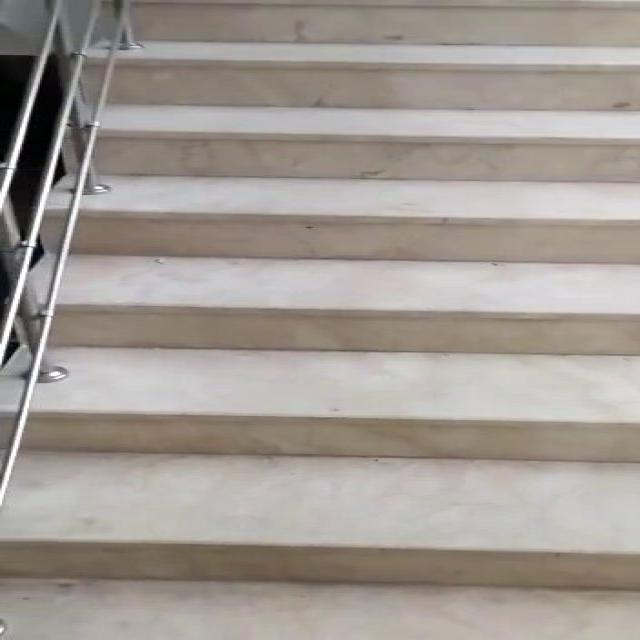stair: (57, 13, 640, 576)
